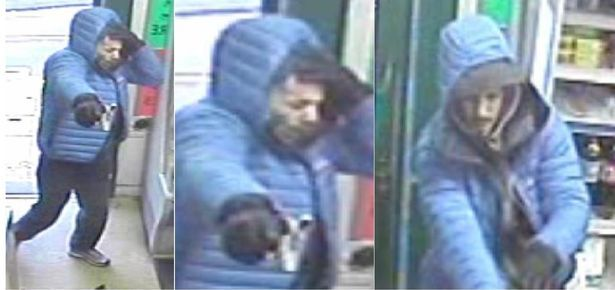gun: (243, 196, 324, 274), (76, 88, 125, 138)
